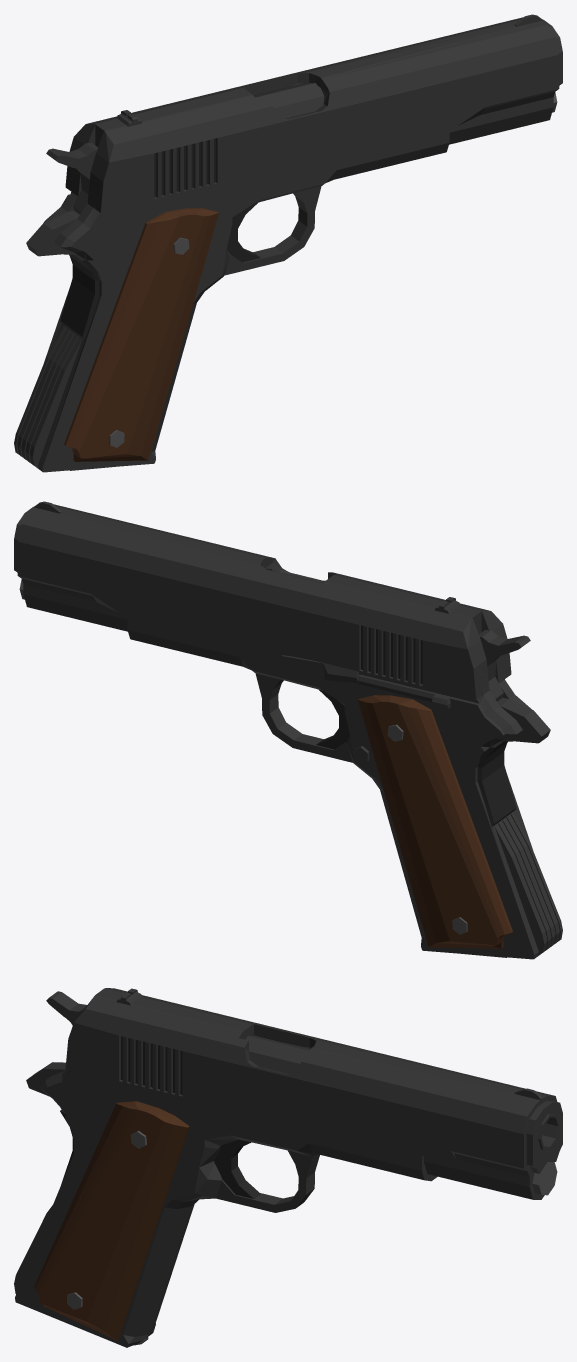
The picture shows the model from 3 angles, top to bottom: view 1: azimuth 30°, elevation 25°; view 2: azimuth 150°, elevation 25°; view 3: azimuth 330°, elevation 25°; orthographic projection.
Visible parts, largest first — view 1: Slide, Base, Grips, Hammer, Trigger; view 2: Slide, Base, Grips, Slide Stop, Hammer, Trigger; view 3: Slide, Base, Grips, Trigger, Hammer.
Part boxes in pixels (x1,y1,x2,y2): Slide: [65, 14, 562, 212]; Base: [14, 82, 449, 472]; Grips: [64, 208, 218, 461]; Hammer: [46, 143, 97, 214]; Trigger: [227, 202, 260, 262]; Slide: [14, 501, 511, 699]; Base: [127, 569, 562, 959]; Grips: [358, 695, 512, 948]; Slide Stop: [276, 655, 358, 683]; Hammer: [479, 630, 530, 701]; Trigger: [316, 689, 349, 749]; Slide: [65, 988, 562, 1199]; Base: [14, 1036, 559, 1347]; Grips: [34, 1101, 189, 1340]; Trigger: [214, 1139, 260, 1198]; Hammer: [46, 991, 86, 1025].
Size of the model in its own units: 81.23 by 50.94 by 11.76.
